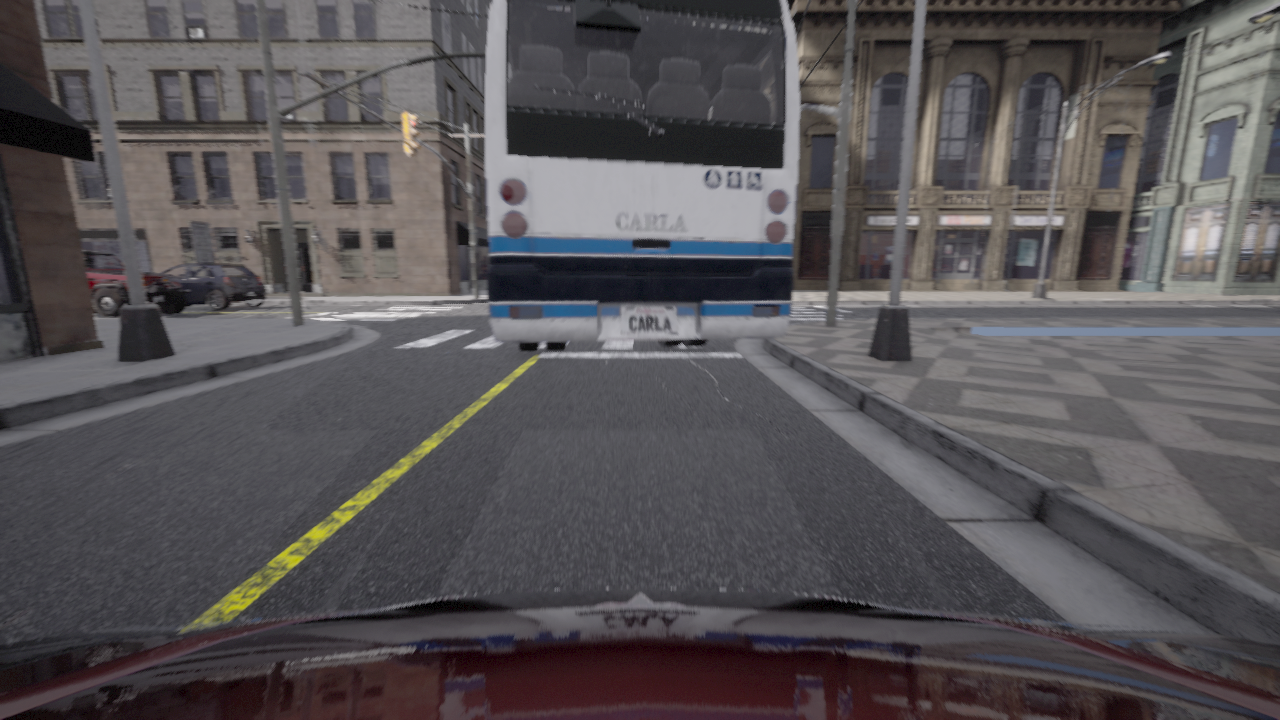cyclist: (0, 588, 1279, 719), (485, 0, 797, 352), (81, 249, 189, 317), (146, 264, 266, 310)
